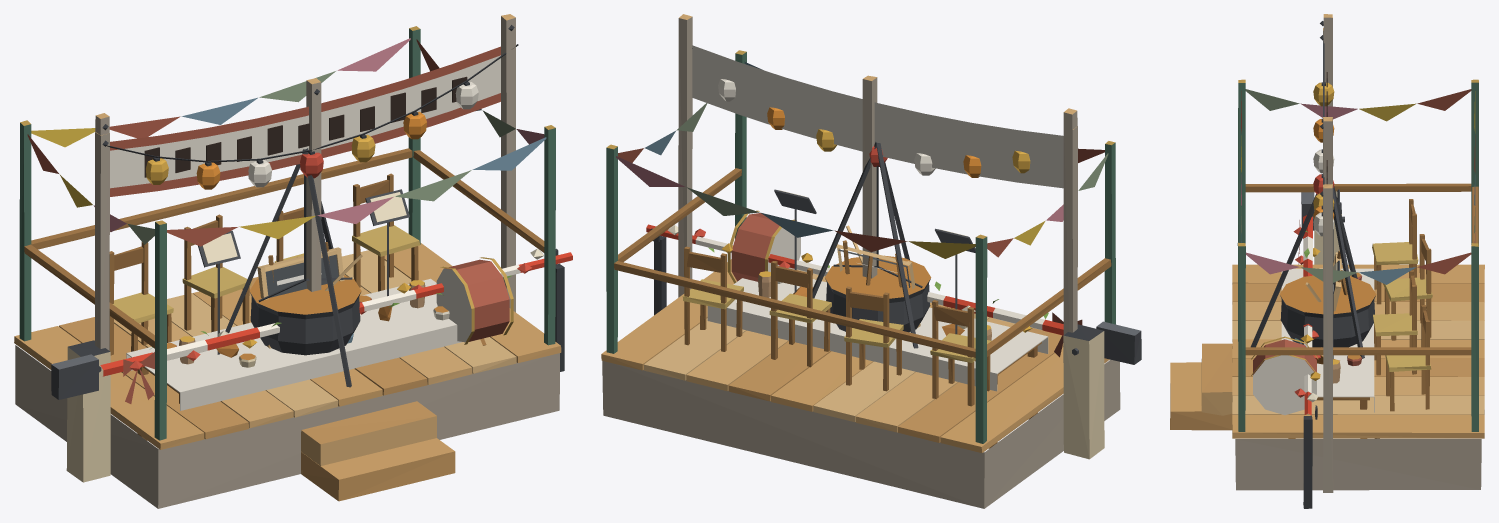
The model's file is aubrune-fetes.glb.
3 renders of one model, left to right at view 1: azimuth 30°, elevation 25°; view 2: azimuth 150°, elevation 25°; view 3: azimuth 270°, elevation 25°, orthographic. The views are drawn at different scales.
Visible parts, largest first — view 1: bandstand, festival-banner, banquet-table, crossing-gate-flowered, festival-cauldron, lampion-garland, lampion-pole, chalk-board; view 2: bandstand, festival-banner, crossing-gate-flowered, banquet-table, festival-cauldron, lampion-garland, lampion-pole, chalk-board; view 3: bandstand, festival-cauldron, festival-banner, crossing-gate-flowered, banquet-table, lampion-garland, lampion-pole, chalk-board.
Boxes of the visible parts, x1,y1,x2,y2 form: bandstand: (14, 26, 561, 508); festival-banner: (95, 14, 515, 350); banquet-table: (126, 278, 461, 440); crossing-gate-flowered: (51, 248, 572, 482); festival-cauldron: (225, 148, 362, 387); lampion-garland: (95, 44, 518, 348); lampion-pole: (306, 78, 321, 291); chalk-board: (257, 242, 344, 348); bandstand: (601, 50, 1120, 508); festival-banner: (678, 14, 1077, 334); crossing-gate-flowered: (646, 224, 1141, 459); banquet-table: (707, 271, 1048, 448); festival-cauldron: (812, 142, 931, 348); lampion-garland: (692, 48, 1077, 332); lampion-pole: (862, 75, 877, 278); chalk-board: (836, 240, 920, 327); bandstand: (1170, 79, 1484, 490); festival-cauldron: (1250, 186, 1379, 438); festival-banner: (1320, 14, 1333, 492); crossing-gate-flowered: (1293, 192, 1344, 508); banquet-table: (1281, 268, 1374, 438); lampion-garland: (1313, 28, 1334, 236); lampion-pole: (1320, 117, 1332, 184); chalk-board: (1333, 250, 1347, 311).
Bounding box in the file's own units: 4.88 × 3.2 × 2.99.
